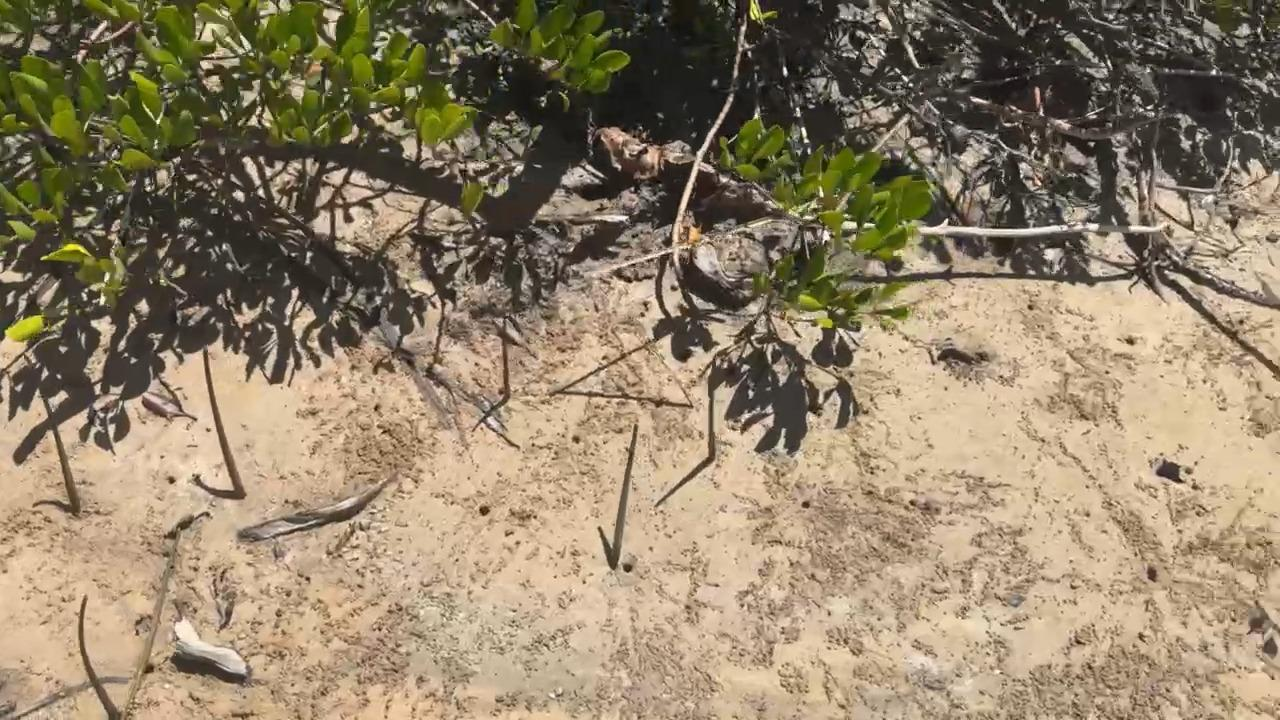Tree: (118, 526, 183, 720), (21, 351, 82, 512), (200, 341, 249, 500), (627, 325, 695, 408), (610, 423, 641, 569), (499, 310, 512, 403), (707, 371, 718, 462)
